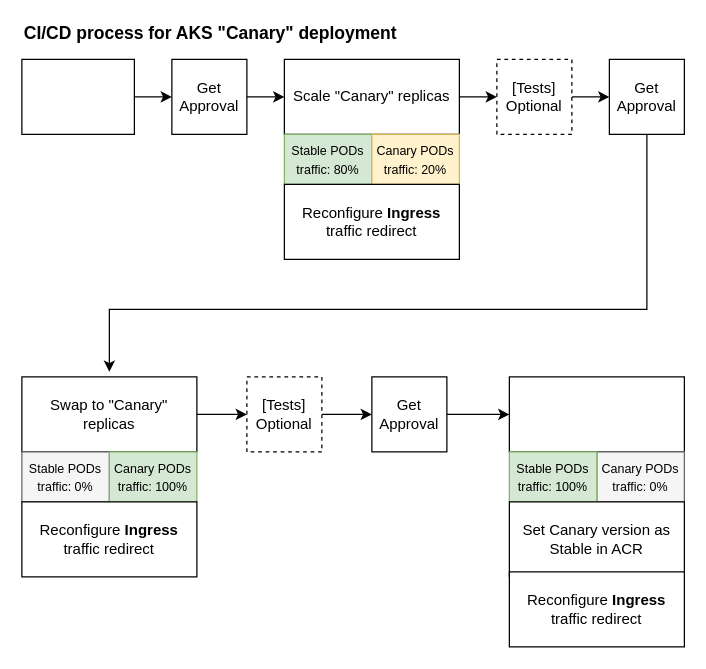
The diagram is 706 pixels wide and 669 high, and some of its shapes have lost their labels. Here are the shapes that lost their labels. From the top down, the centre of each, then its label:
At (77,96): "Build container".
At (596,414): "Deploy Helm charts for Stable and Canary deployments".
